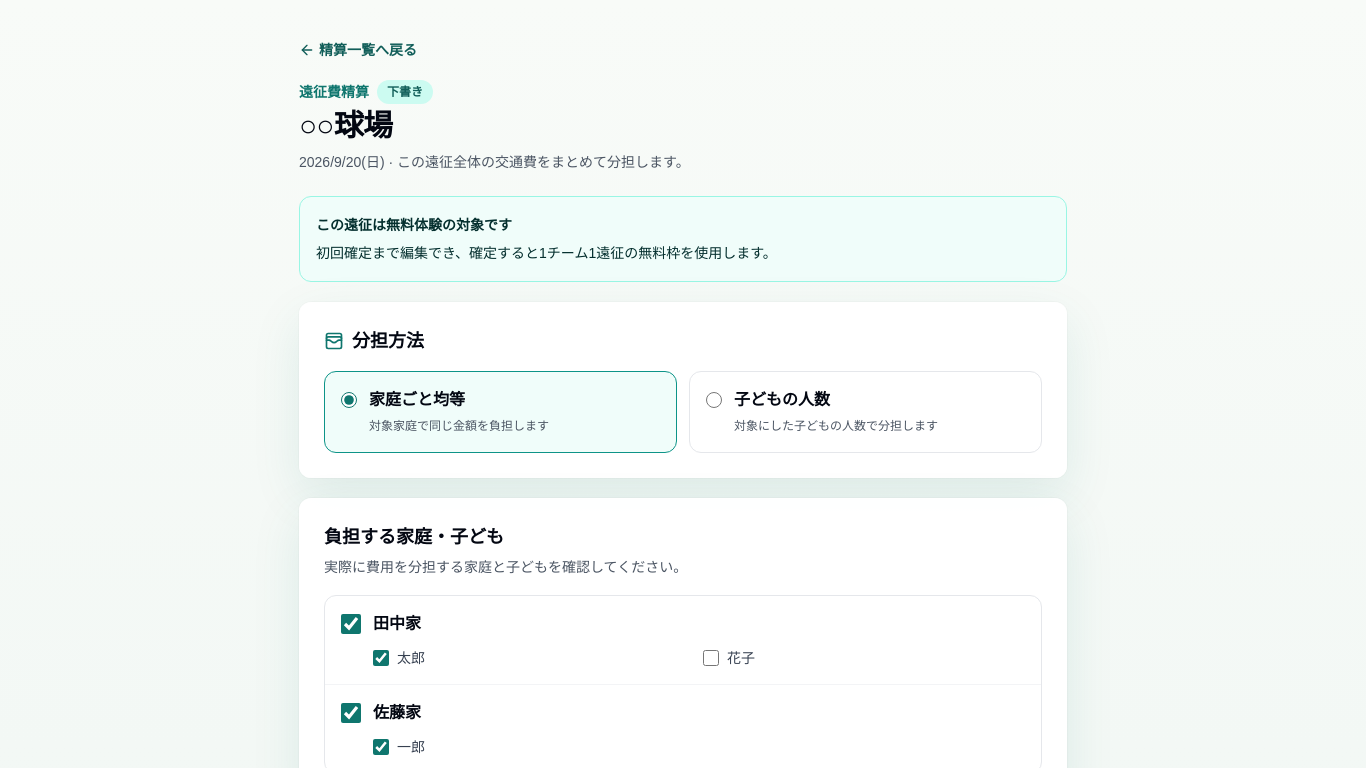
Test: スマホ向けの入力順で家庭・子ども・費用を編集して確認計算できる
Expected: the heading "○○球場" is shown, [299,109,392,142]
Expected: the text "この遠征は無料体験の対象です" is shown, [316,217,512,233]
Click the checkbox labelled "花子" at x=711, y=658, box [703,650,719,666]
(page scrolled)
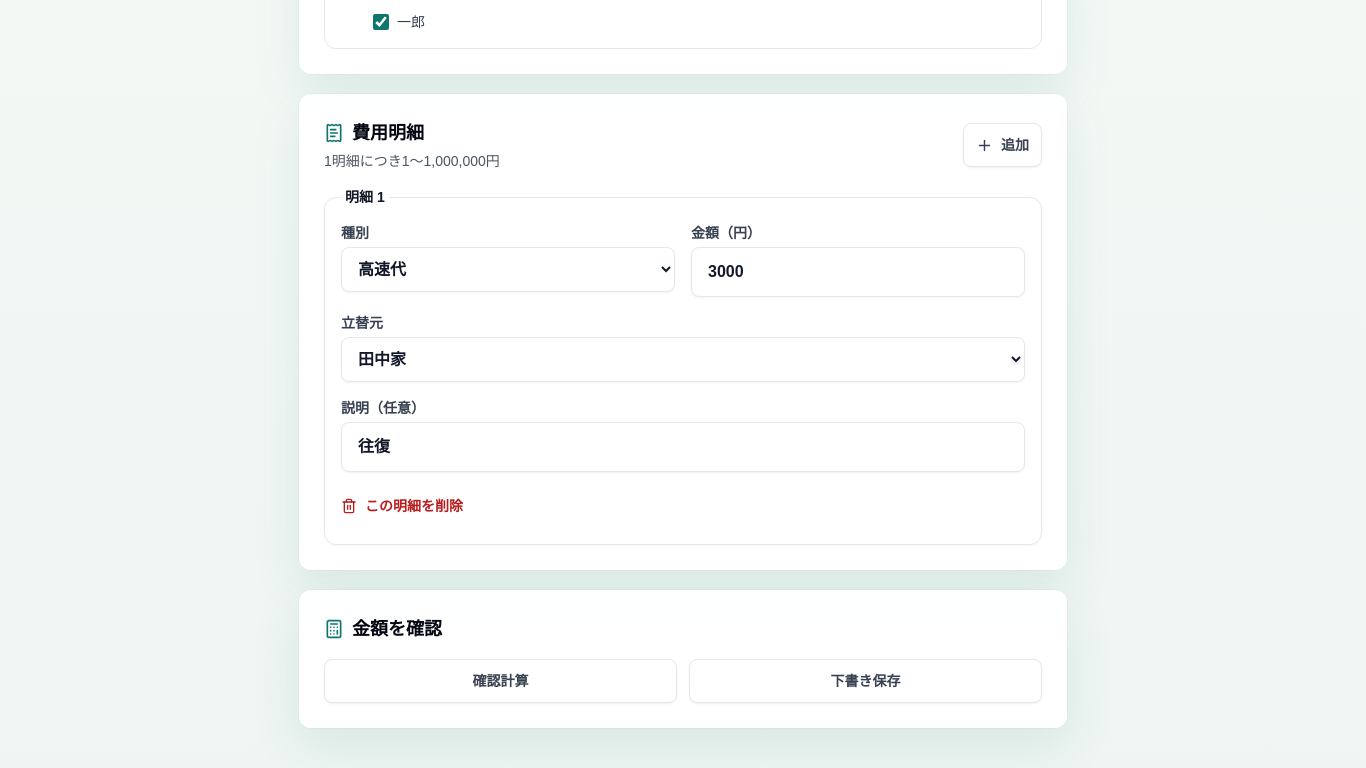
Click the button "確認計算" at x=500, y=681, box [324,659,677,703]
(page scrolled)
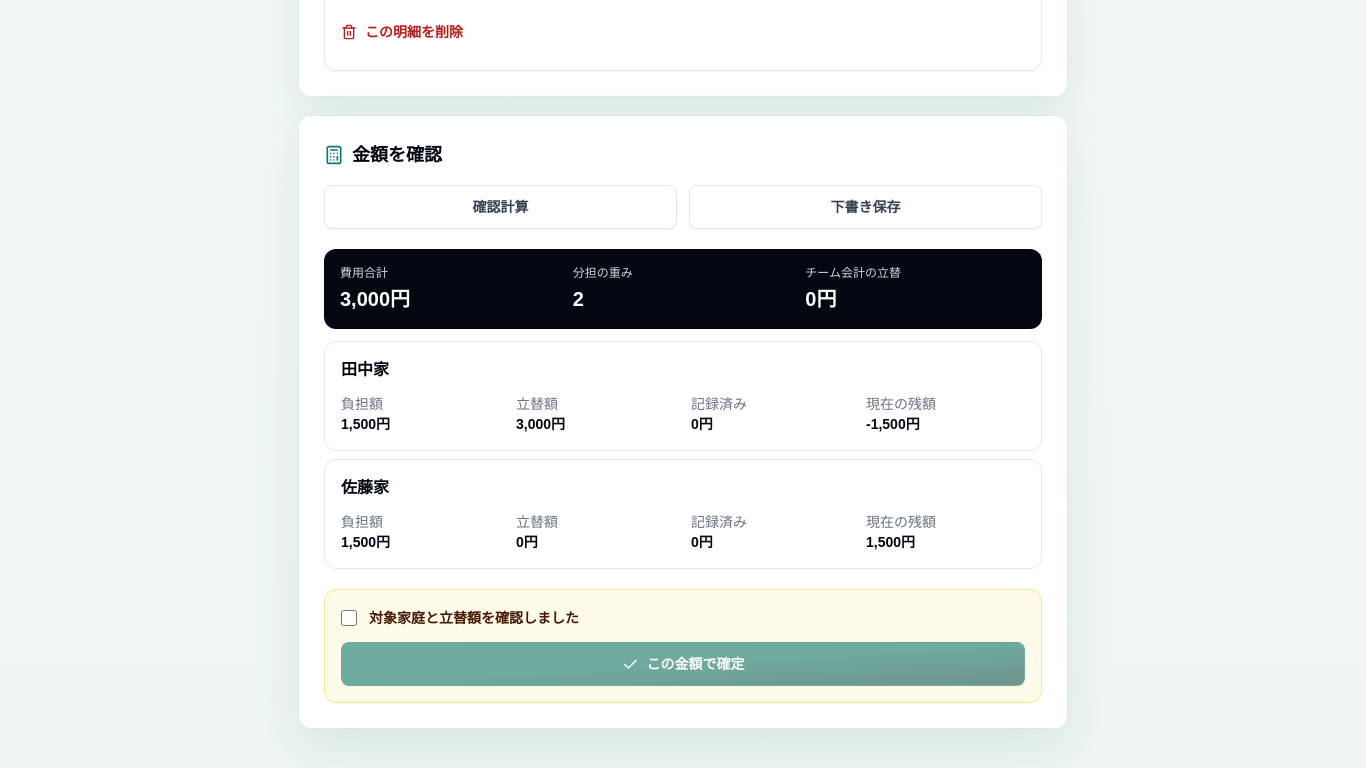
Expected: the text "3,000円" below "費用合計" is shown, [340,288,410,310]
Expected: the text "対象家庭と立替額を確認しました" is shown, [369,606,579,630]
Expected: the button "この金額で確定" is disabled, [341,642,1025,686]
